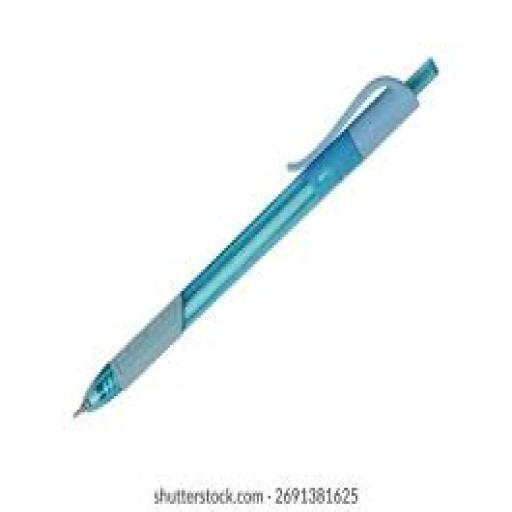tukenmez-kalem: (67, 12, 443, 428)
